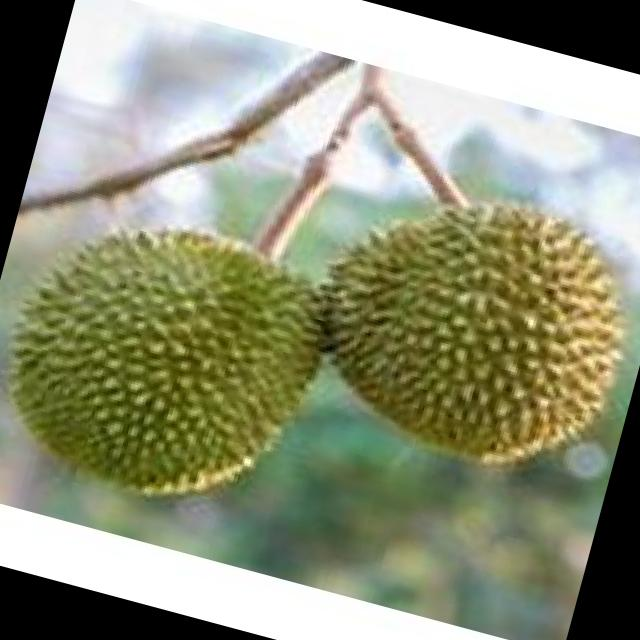fruit: (258, 119, 640, 533), (0, 146, 380, 556)
